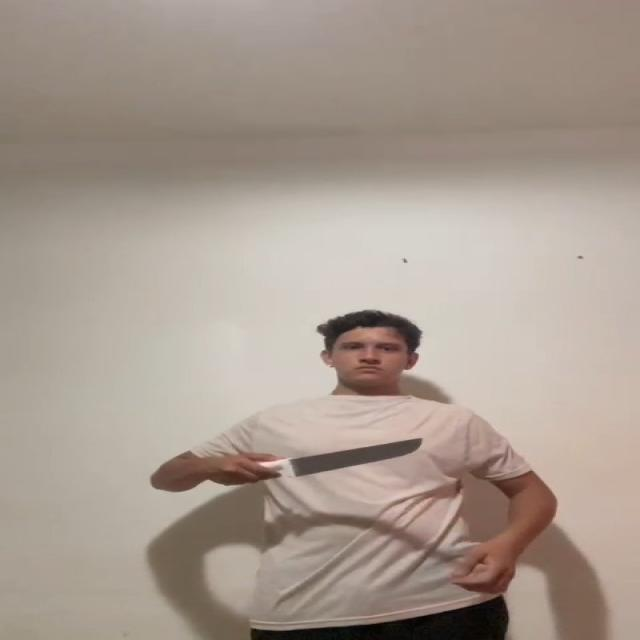knife: (289, 438, 427, 476)
